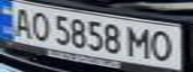5: (48, 12, 72, 46), (84, 19, 106, 53)
8: (103, 21, 127, 56), (66, 16, 87, 50)
A: (6, 4, 36, 38)
M: (124, 25, 154, 60)
O: (145, 28, 181, 63), (27, 9, 54, 42)
